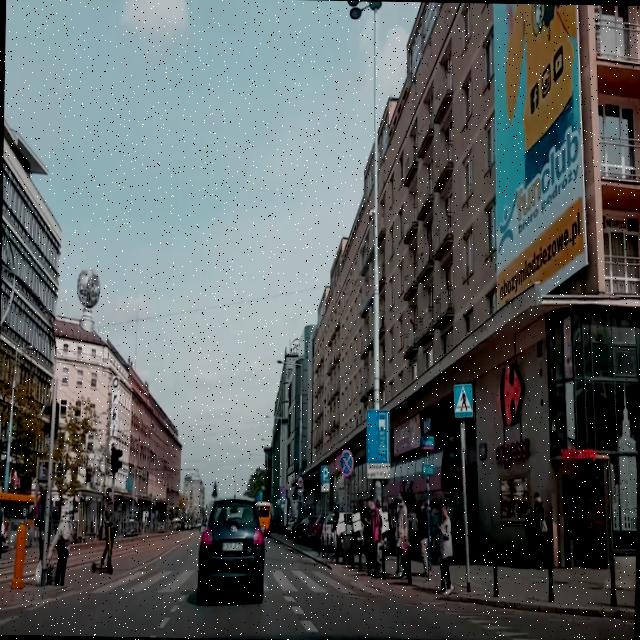Przejscie dla pieszych: (452, 383, 474, 418)
Zakaz zatrzymywania sie: (338, 448, 354, 477), (278, 482, 286, 498)
